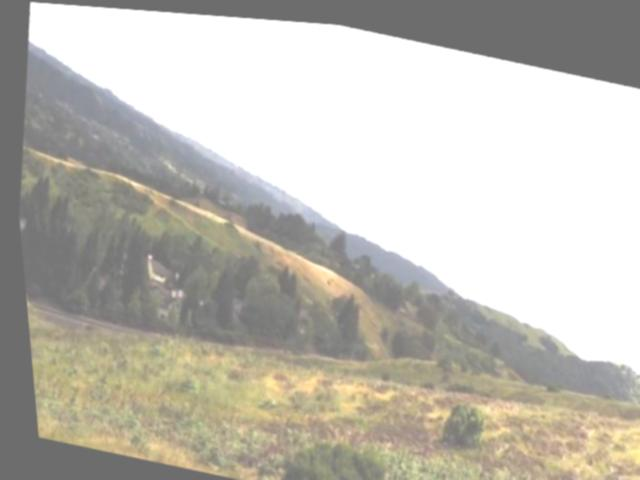iha: (516, 151, 541, 180)
